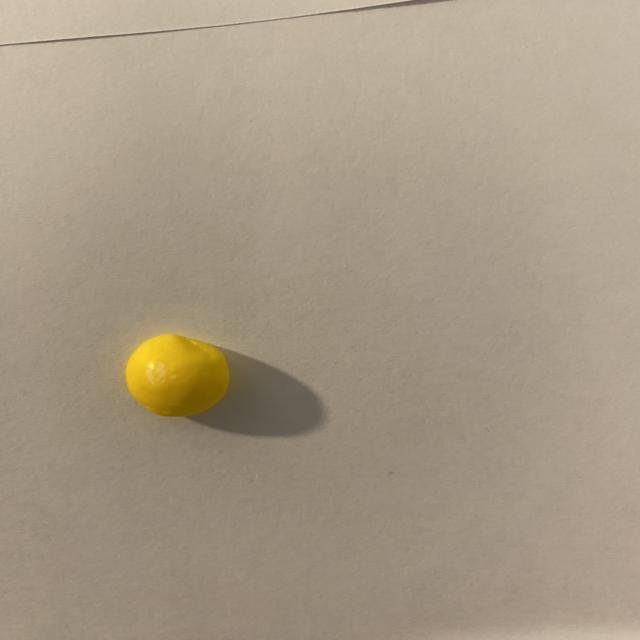smartie: (125, 335, 229, 417)
